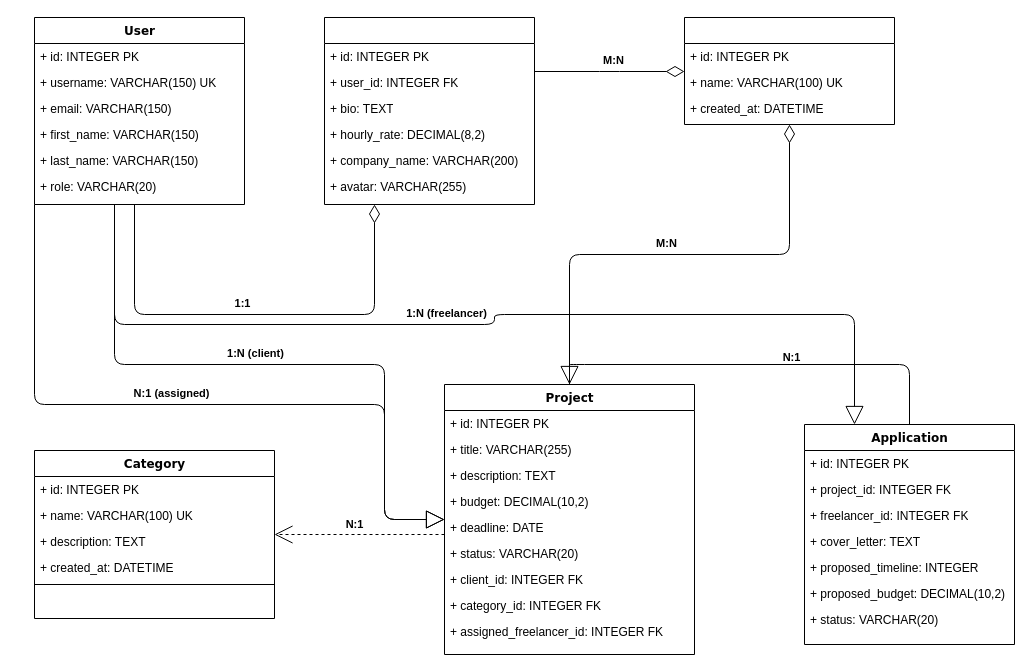
This 1032x672 diagram has some shape labels left out. Here are the shapes that lost their labels. From the top down, the box of each, then its label:
(684, 16, 894, 124): Skill
(324, 16, 534, 204): Profile
